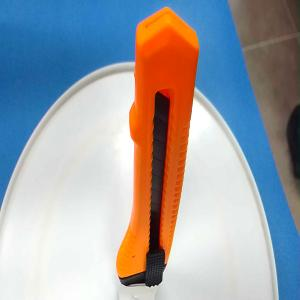estilete: (115, 7, 200, 289)
